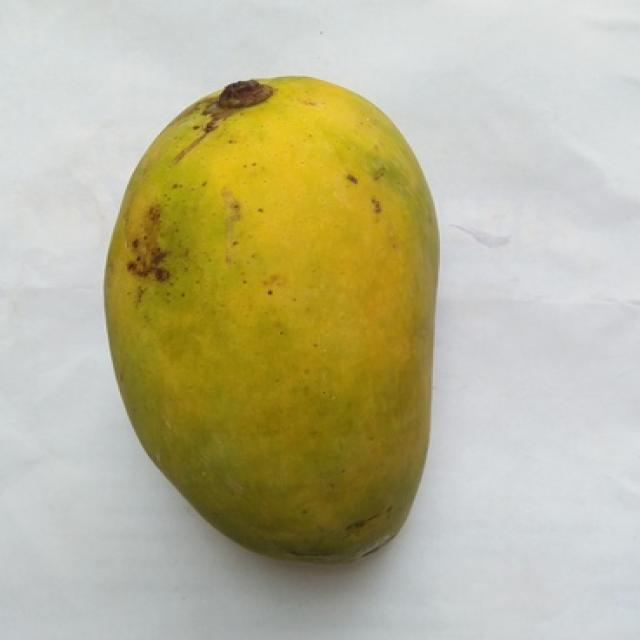Mango: (106, 77, 437, 559)
